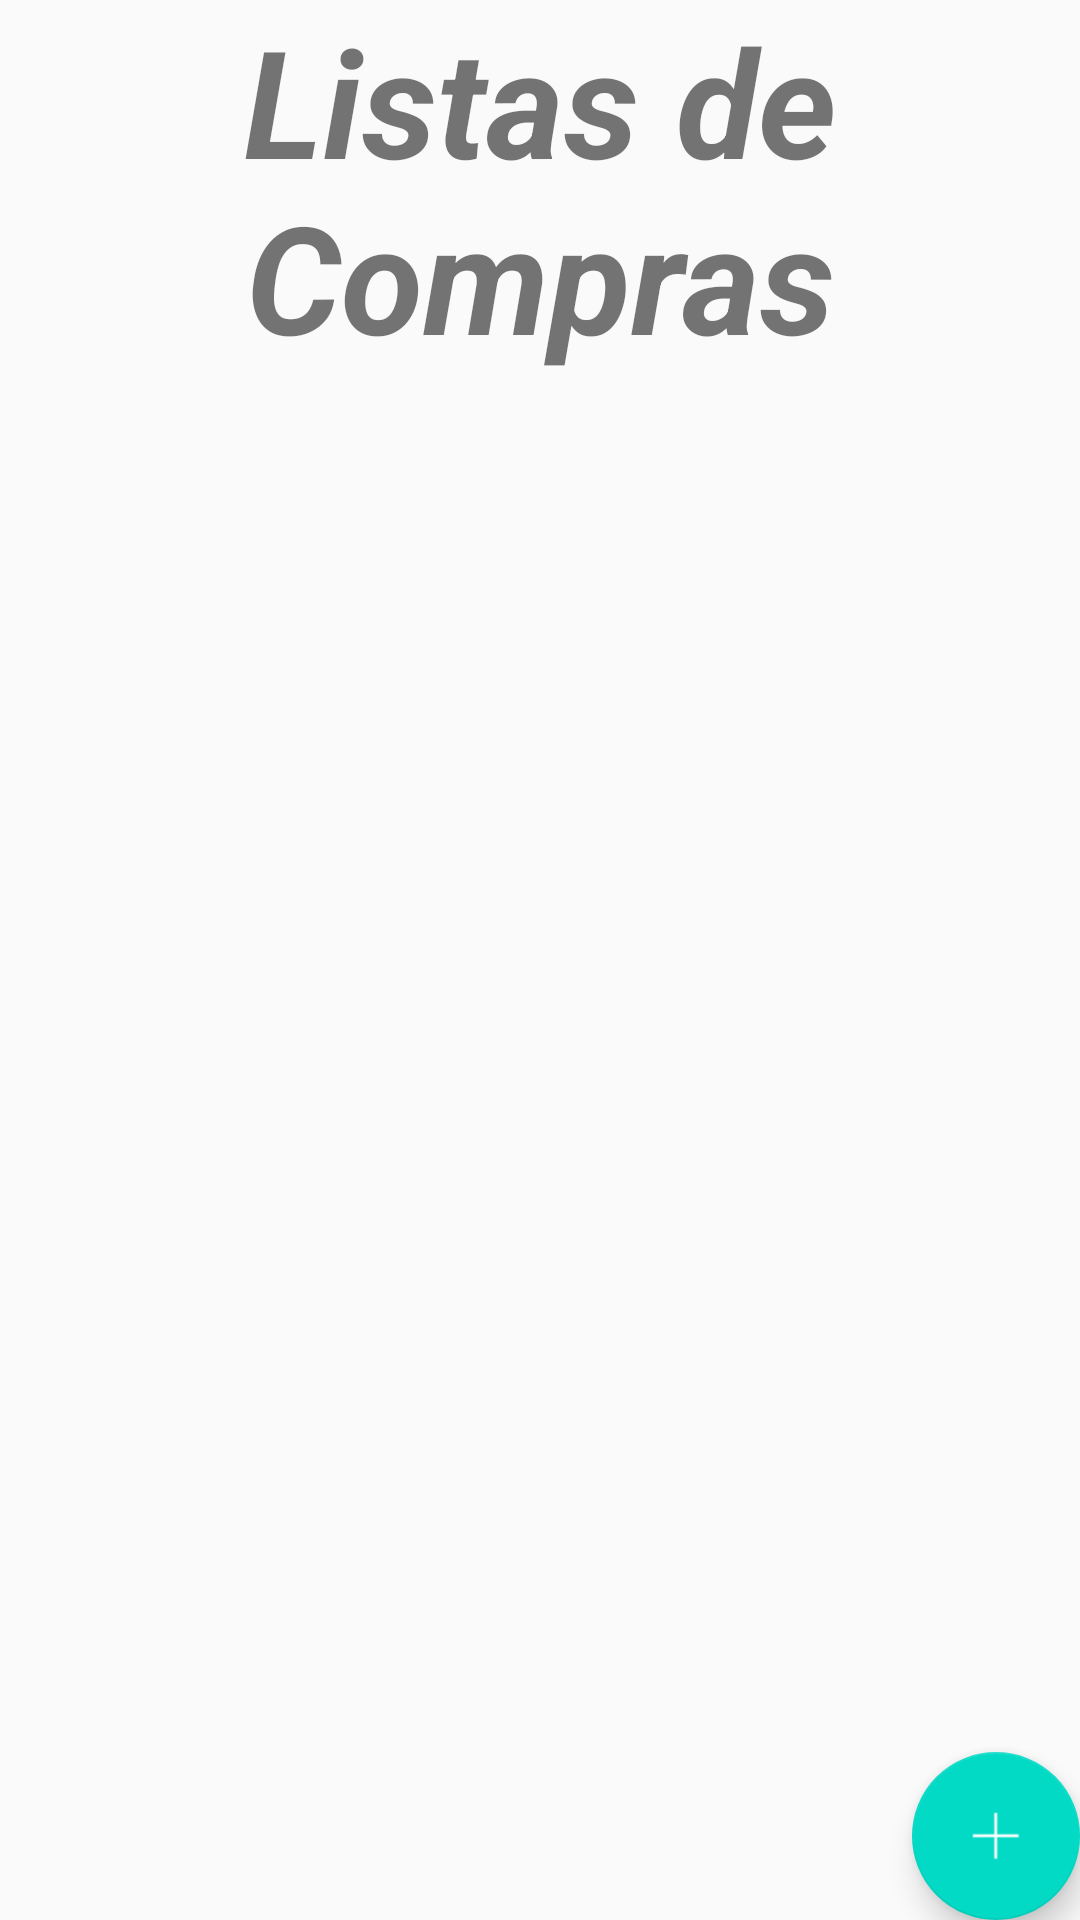

Icons on this 1080 × 1920 Android screen, each with its box as (x1, y1, x2, y2):
plus math: (912, 1752, 1080, 1920)
